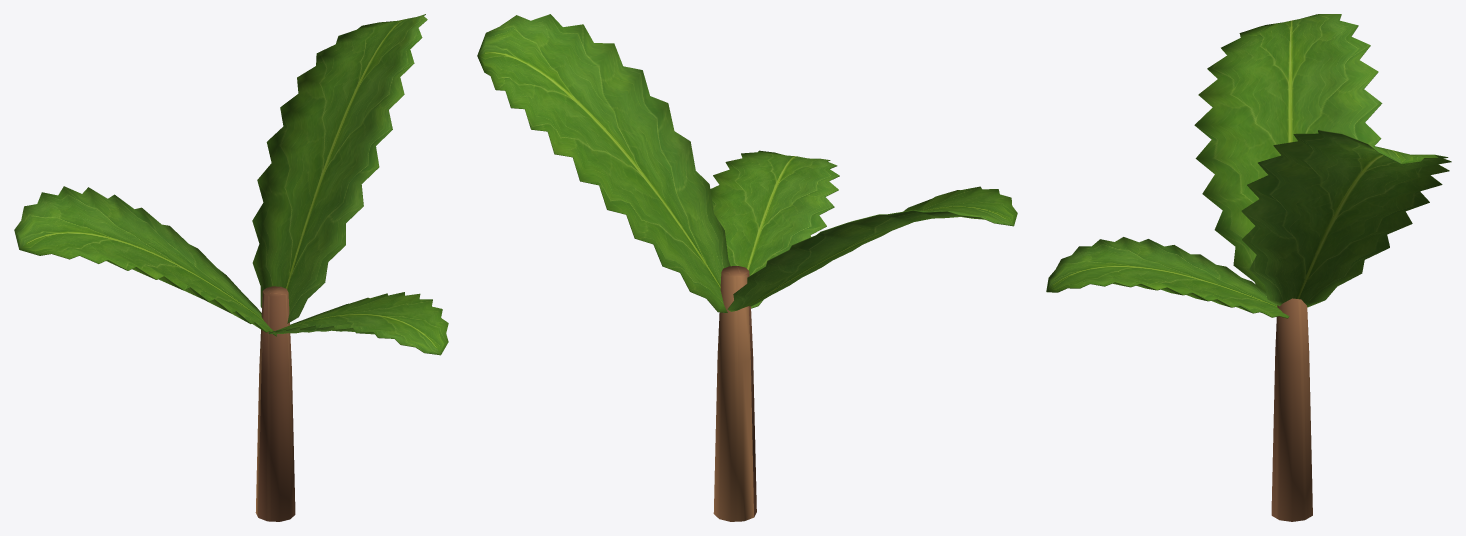
The model's file is NP_Raspberry_Sprout.fbx.
3 views of the same model, side by side, from view 1: azimuth 30°, elevation 25°; view 2: azimuth 150°, elevation 25°; view 3: azimuth 270°, elevation 25° (orthographic). The views are drawn at different scales.
Parts seen in each view (by area): view 1: NP_Raspberry_Sprout; view 2: NP_Raspberry_Sprout; view 3: NP_Raspberry_Sprout.
Part boxes in pixels (x1=…): NP_Raspberry_Sprout: x1=14, y1=14, x2=448, y2=521; NP_Raspberry_Sprout: x1=477, y1=14, x2=1017, y2=521; NP_Raspberry_Sprout: x1=1046, y1=14, x2=1451, y2=521.
Bounding box in the file's own units: 36.19 × 33.56 × 26.17.
